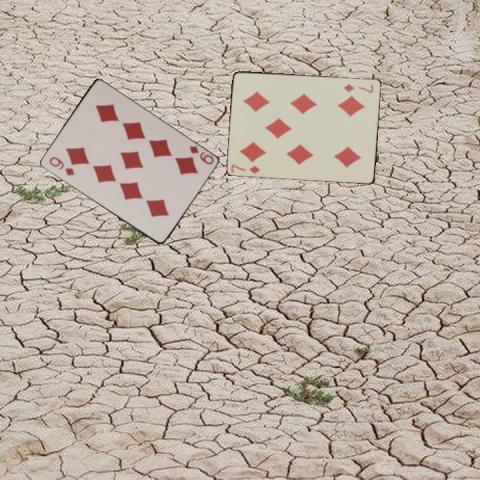7d: (340, 80, 374, 94), (228, 161, 261, 175)
9d: (46, 153, 75, 177), (186, 143, 215, 166)
